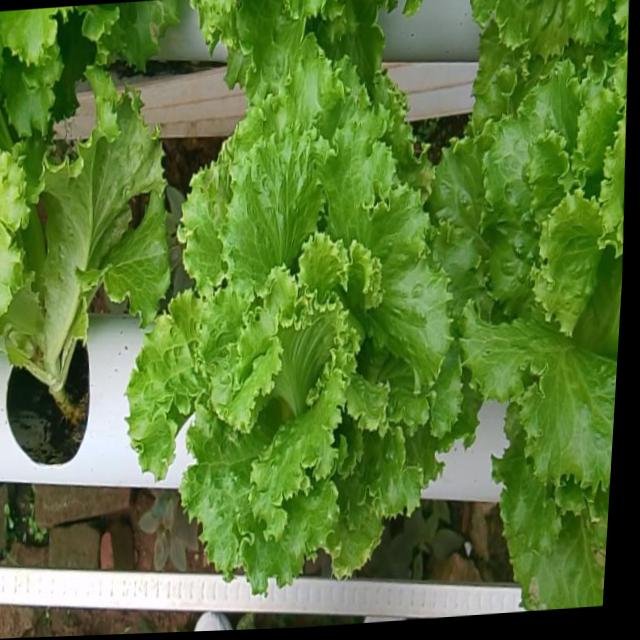Mature: (118, 69, 453, 611), (424, 71, 625, 511)
